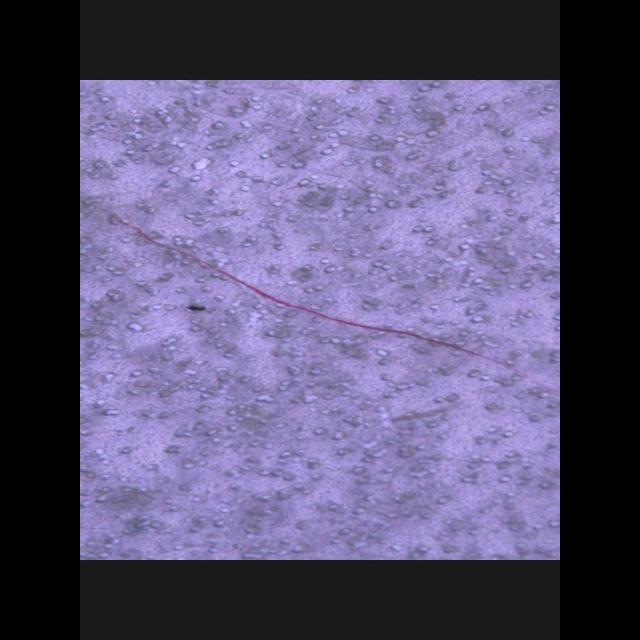Fibre: (80, 193, 546, 395)
